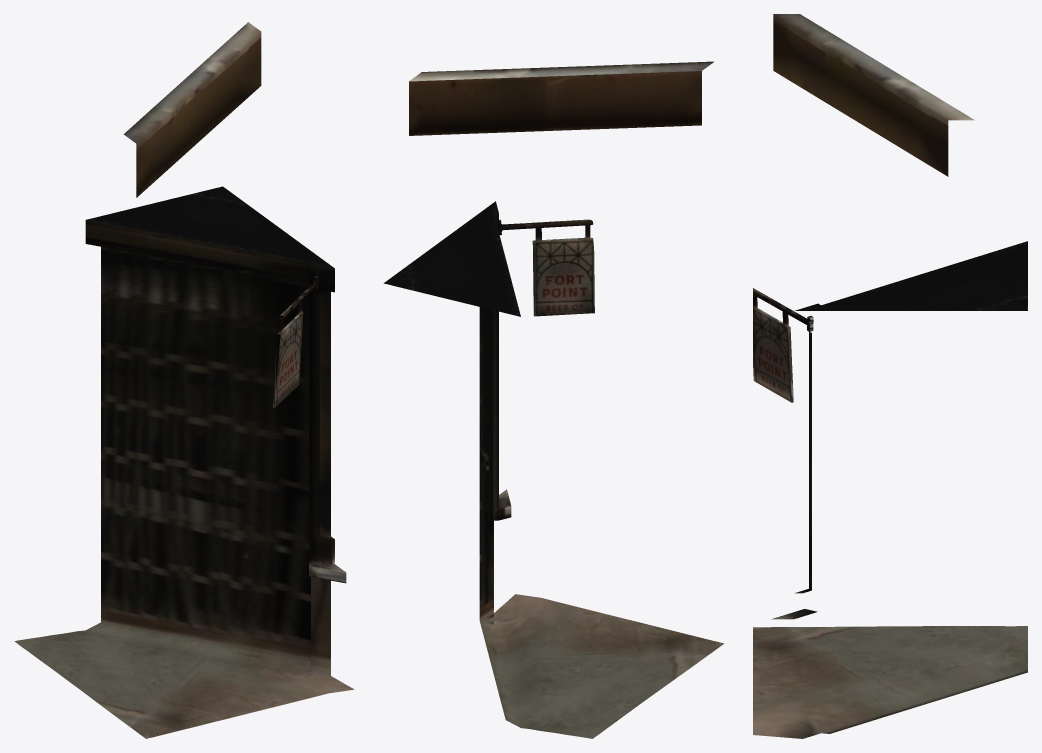
3 views of the same model, side by side, from view 1: azimuth 30°, elevation 25°; view 2: azimuth 150°, elevation 25°; view 3: azimuth 270°, elevation 25° (orthographic). The views are drawn at different scales.
Size of the model in its own units: 1.71 by 4.65 by 1.87.
Materials: 1 (1 with a texture image).
